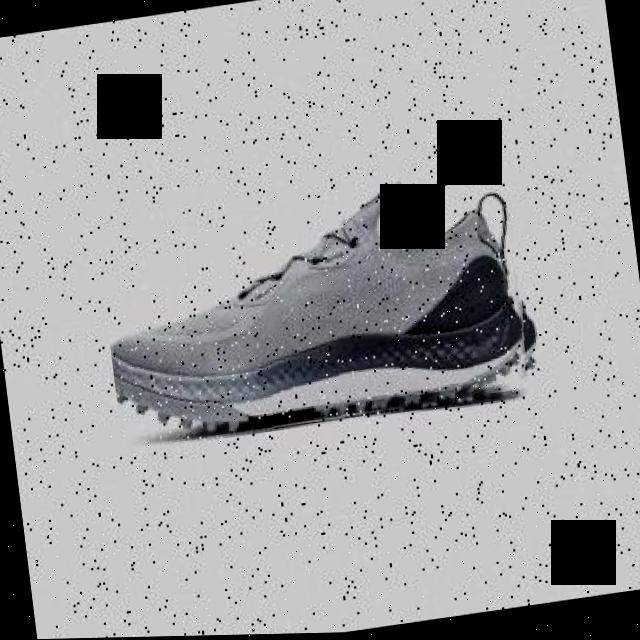shoe: (95, 166, 544, 453)
